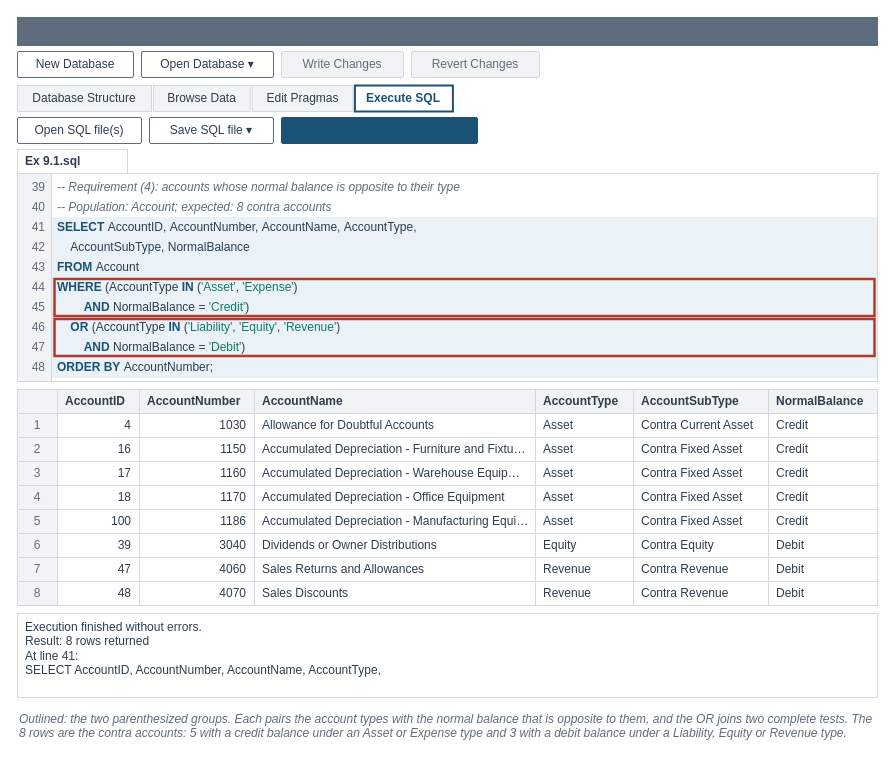
The diagram is 895 pixels wide and 767 high, and some of its shapes have lost their labels. The box of each missing label's shape, as (x1, y1, x2, y2) in pixels:
DB Browser for SQLite - C:\Users\you\Documents\CharlesRiver_Work.sqlite: (16, 16, 878, 46)
▶ Execute all/selected SQL: (280, 116, 478, 144)
